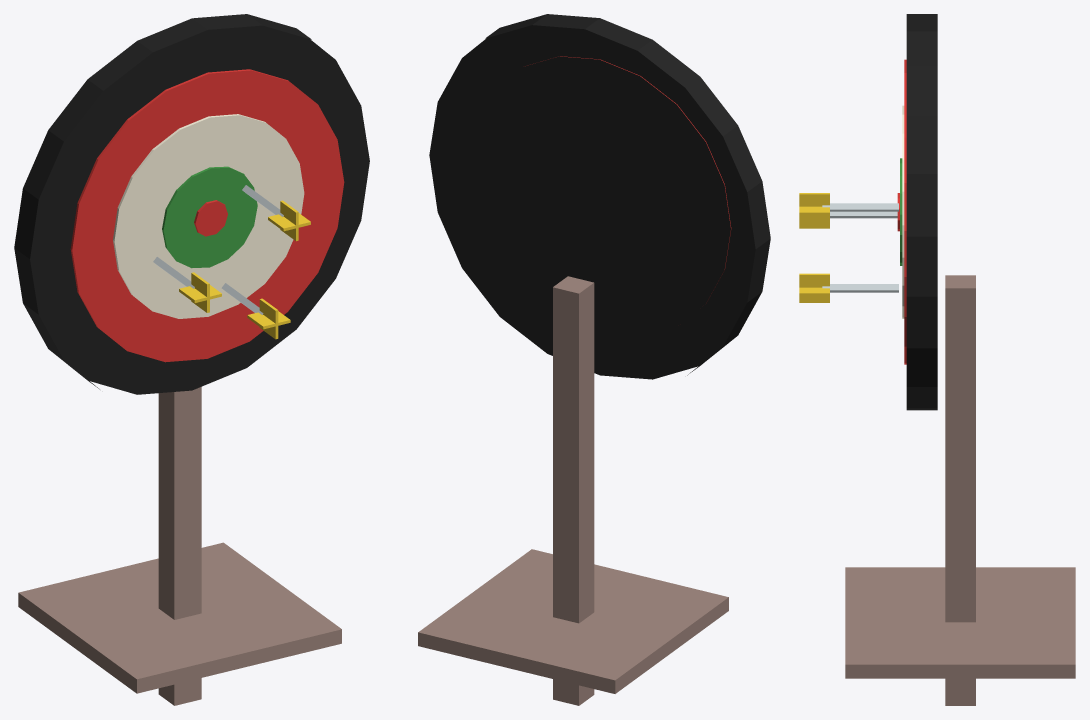
File: darttavla.glb
3 renders of one model, left to right at view 1: azimuth 30°, elevation 25°; view 2: azimuth 150°, elevation 25°; view 3: azimuth 270°, elevation 25°, orthographic. The views are drawn at different scales.
Visible parts, largest first — view 1: darttavla; view 2: darttavla; view 3: darttavla.
Boxes of the visible parts, x1=… form: darttavla: x1=14, y1=14, x2=369, y2=705; darttavla: x1=418, y1=14, x2=770, y2=705; darttavla: x1=799, y1=14, x2=1075, y2=705.
Bounding box in the file's own units: 0.52 × 0.96 × 0.36.
